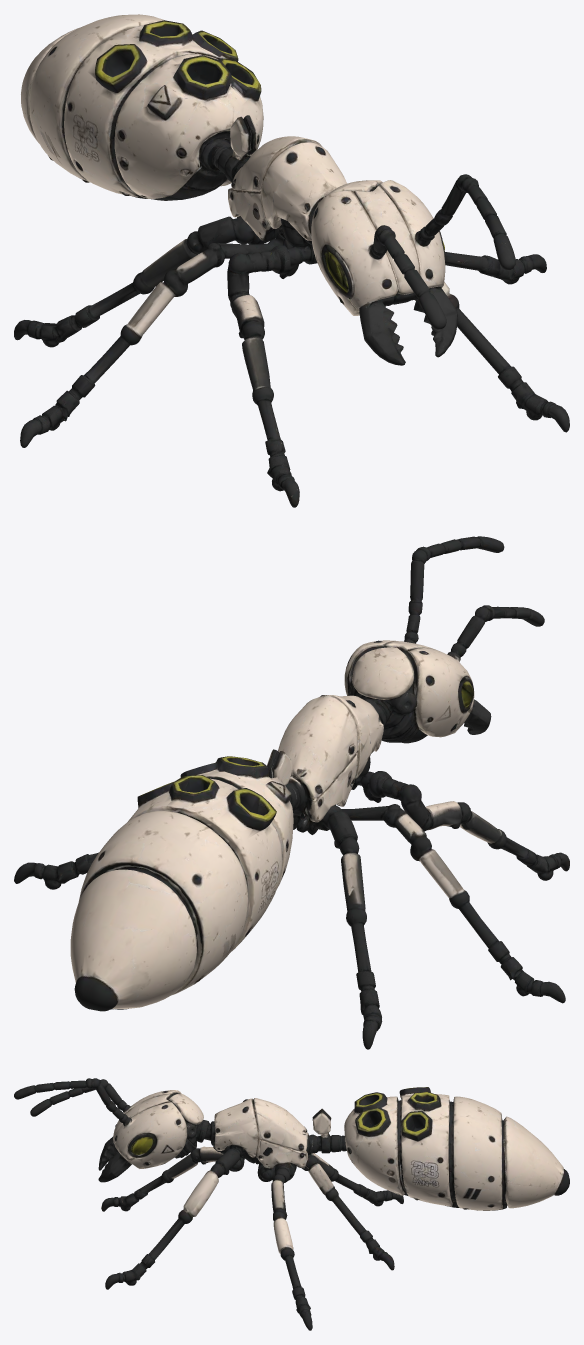
The model's file is ant.glb.
The picture shows the model from 3 angles, top to bottom: view 1: azimuth 30°, elevation 25°; view 2: azimuth 150°, elevation 25°; view 3: azimuth 270°, elevation 25°; orthographic projection. The views are drawn at different scales.
Size of the model in its own units: 2.4 by 1.26 by 3.4.
Materials: 1 (1 with a texture image).
